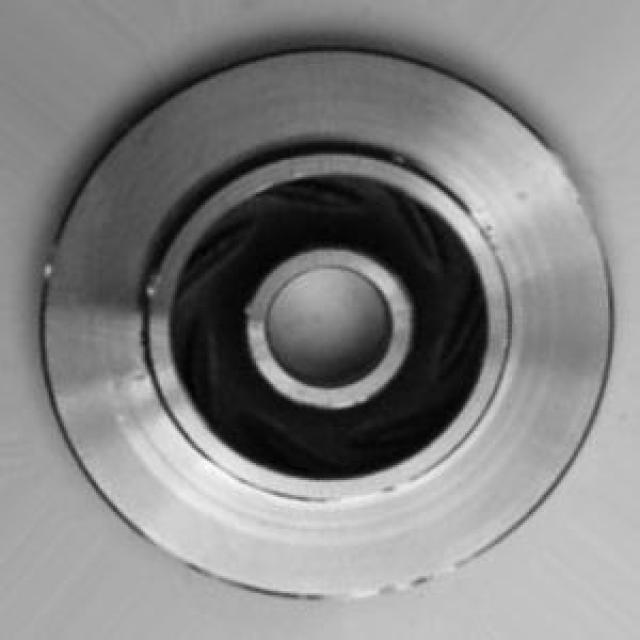Defect: (132, 263, 171, 306)
